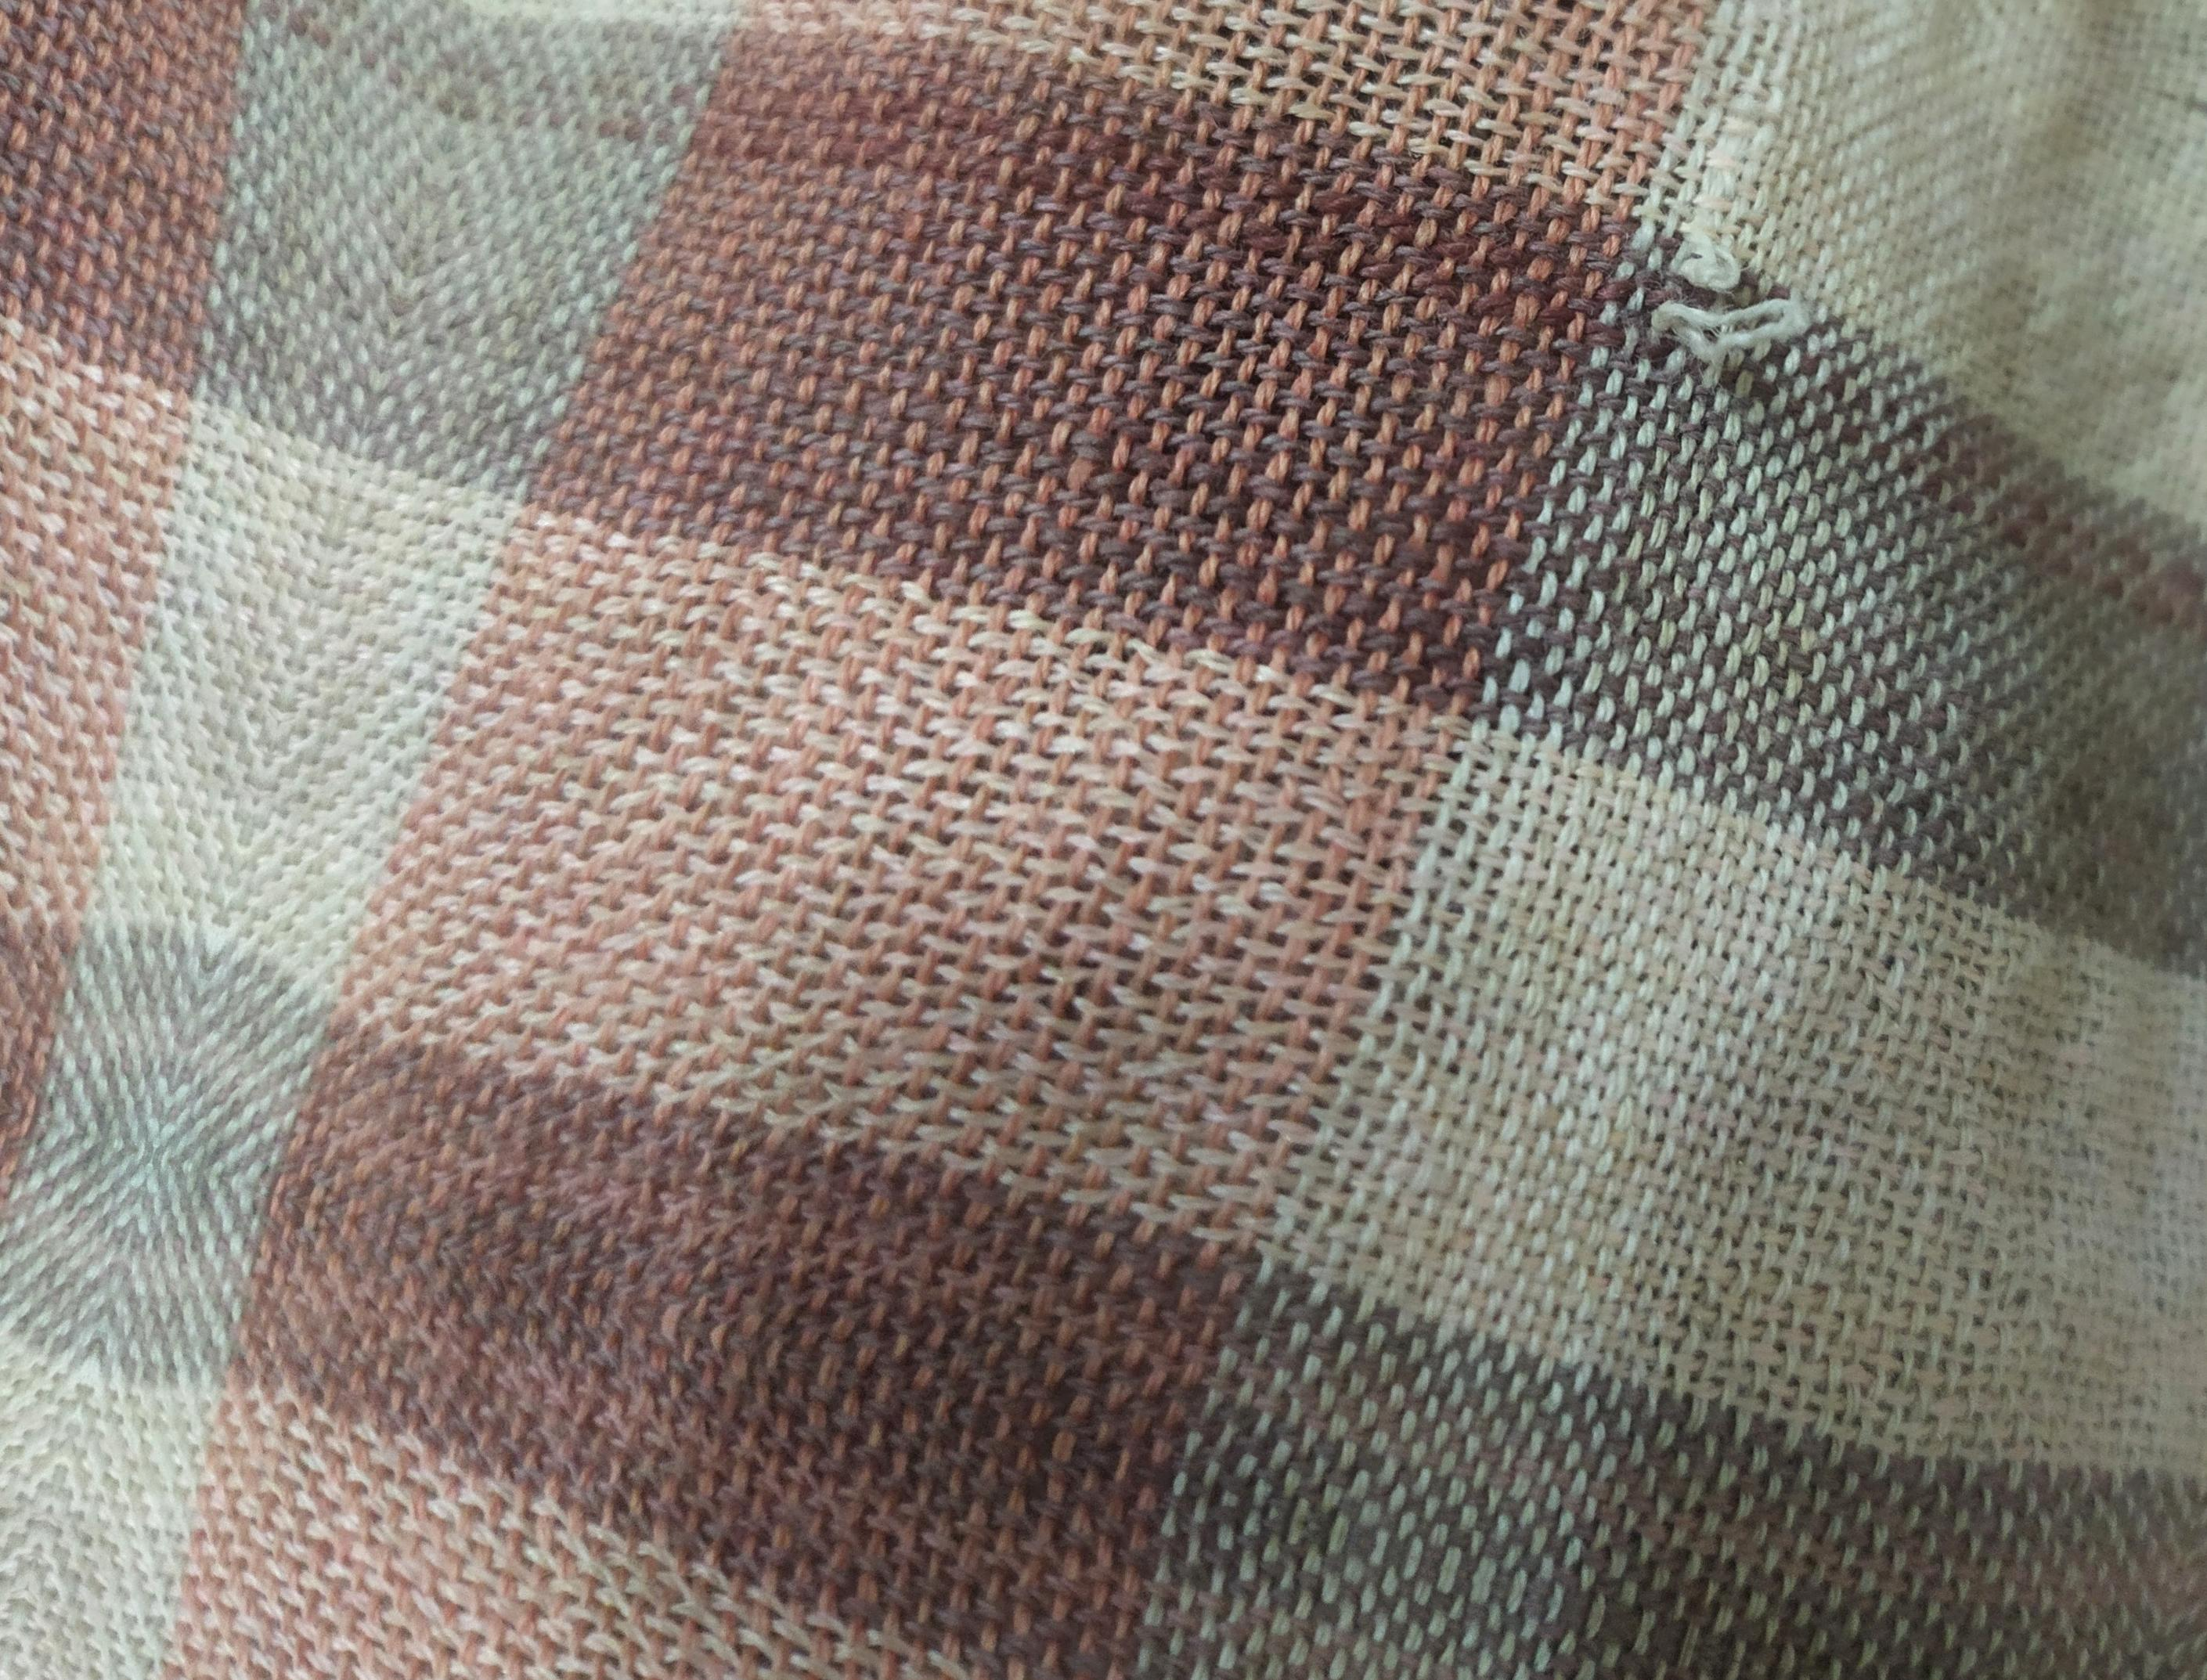snag: (1635, 215, 1837, 392)
